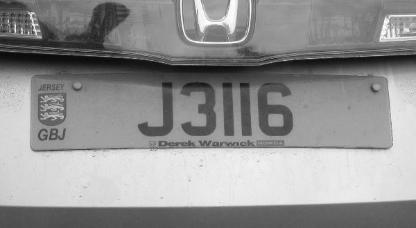license plate: (21, 64, 398, 160)
